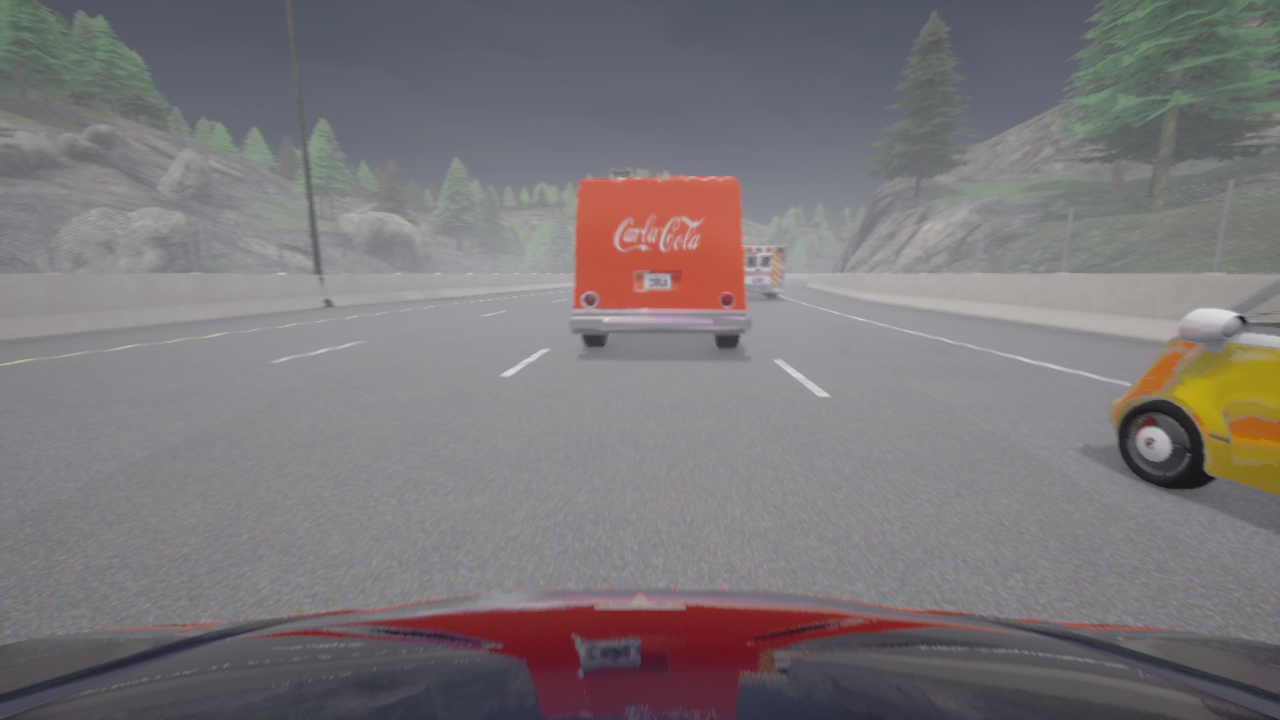cyclist: (0, 588, 1279, 719), (1107, 278, 1279, 496), (569, 177, 750, 349), (742, 245, 784, 298)
